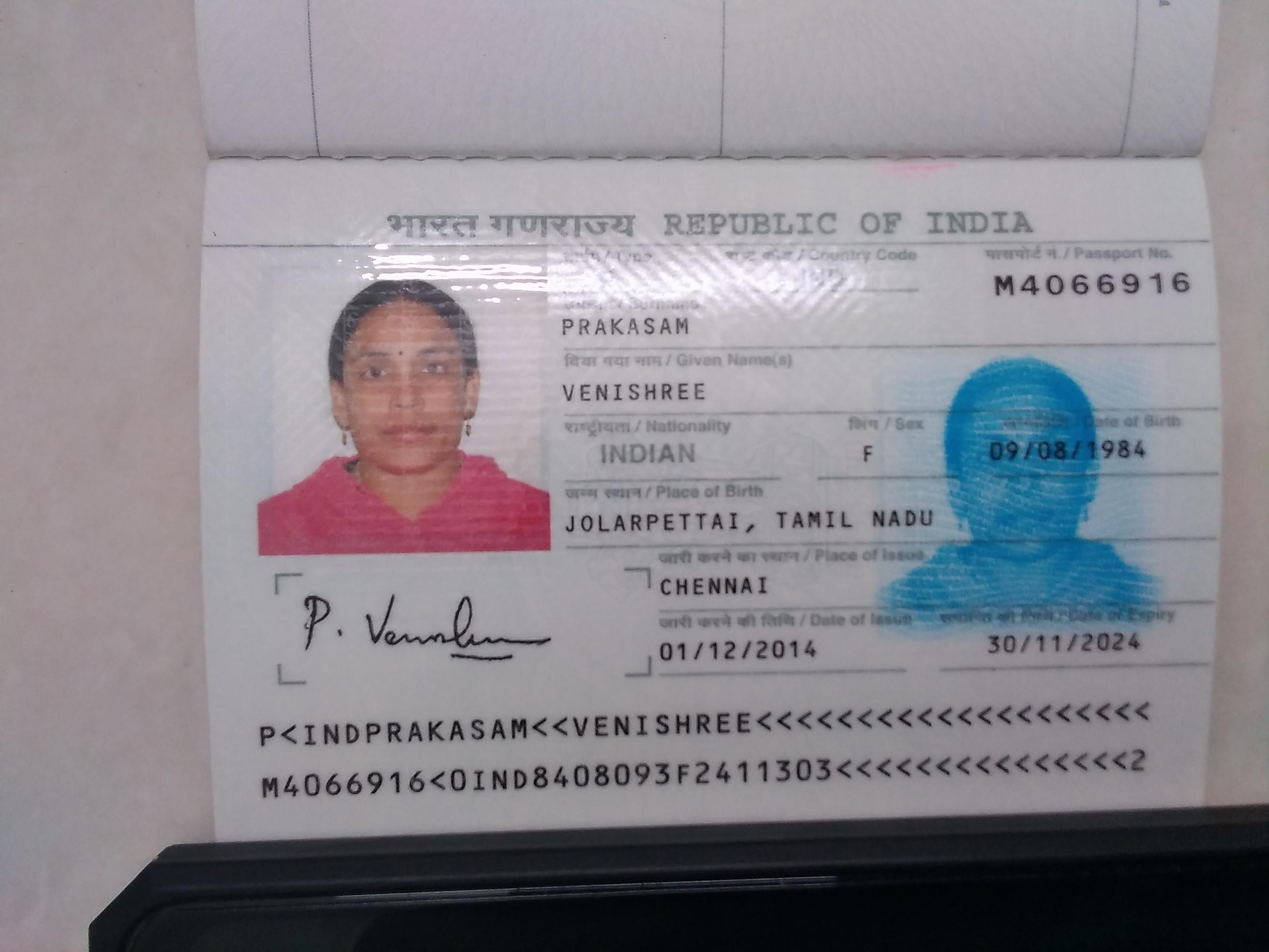DOB: (971, 431, 1180, 472)
Surname: (556, 310, 706, 346)
country_code: (791, 265, 857, 295)
date_of_expiry: (971, 627, 1156, 663)
date_of_issue: (646, 630, 828, 679)
details: (246, 705, 1167, 797)
name: (553, 375, 717, 410)
nationality: (591, 433, 712, 472)
passport_no: (984, 266, 1207, 301)
photo: (268, 268, 547, 547)
place_of_birth: (563, 503, 946, 537)
place_of_issue: (648, 566, 784, 608)
sex: (845, 437, 891, 474)
sign: (290, 589, 574, 672)
type: (588, 264, 627, 296)
